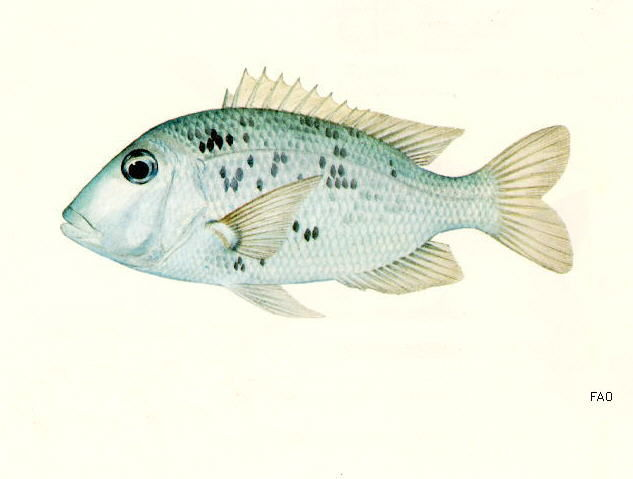fish: (60, 65, 575, 321)
